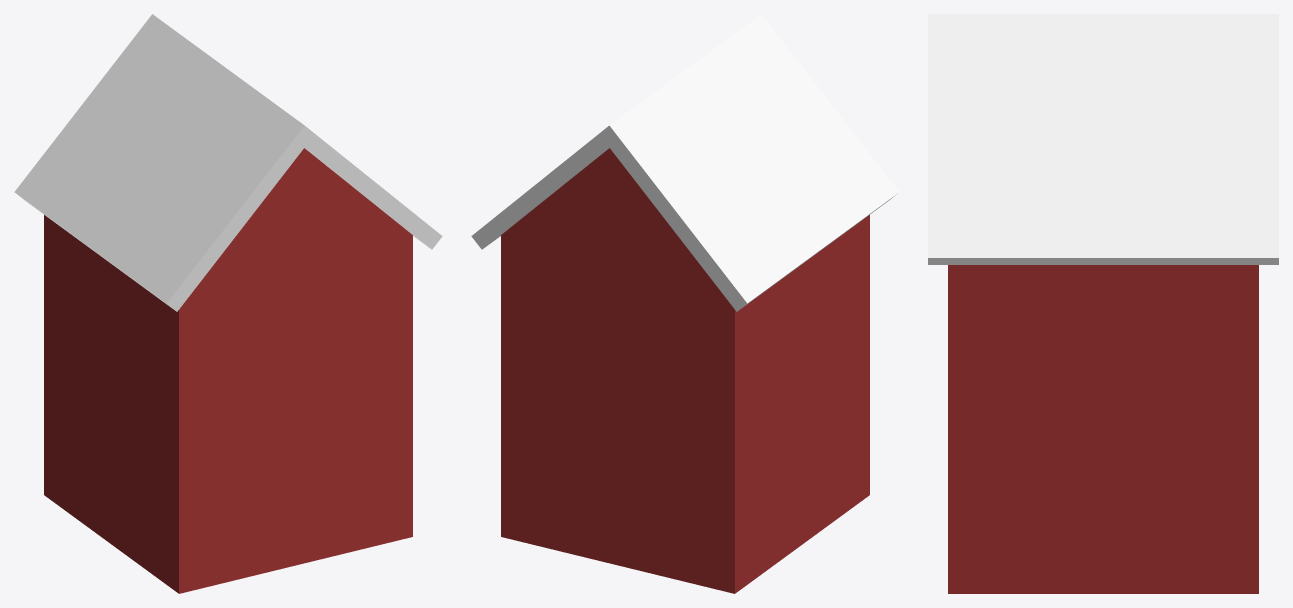
File: HouseObj.fbx
The picture shows the model from 3 angles, left to right: view 1: azimuth 30°, elevation 25°; view 2: azimuth 150°, elevation 25°; view 3: azimuth 270°, elevation 25°; orthographic projection. The views are drawn at different scales.
Visible parts, largest first — view 1: House; view 2: House; view 3: House.
Part boxes in pixels (x1,y1,x2,y2): House: [14, 14, 442, 593]; House: [471, 14, 899, 593]; House: [928, 14, 1278, 593].
Bounding box in the file's own units: 945 × 1460 × 903.
